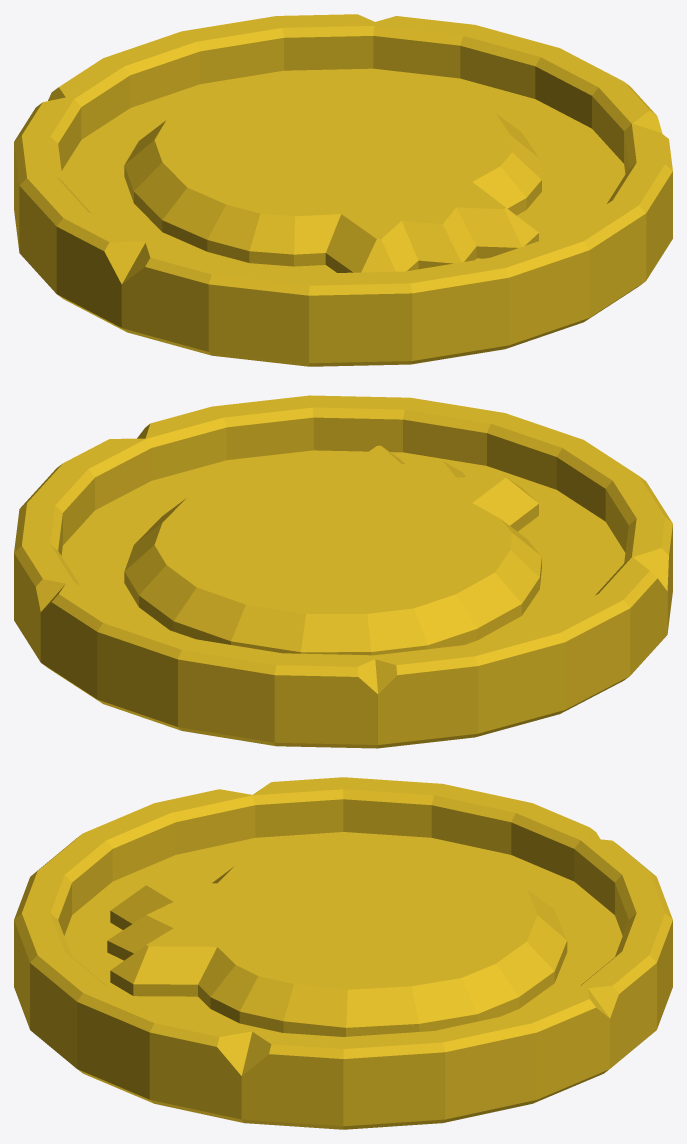
The model's file is Coin.fbx.
The picture shows the model from 3 angles, top to bottom: view 1: azimuth 30°, elevation 25°; view 2: azimuth 150°, elevation 25°; view 3: azimuth 270°, elevation 25°; orthographic projection.
Visible parts, largest first — view 1: Cylinder; view 2: Cylinder; view 3: Cylinder.
Part boxes in pixels (x1,y1,x2,y2): Cylinder: (14, 14, 672, 366); Cylinder: (14, 395, 672, 748); Cylinder: (14, 777, 672, 1129).
Size of the model in its own units: 200 by 27.02 by 200.
